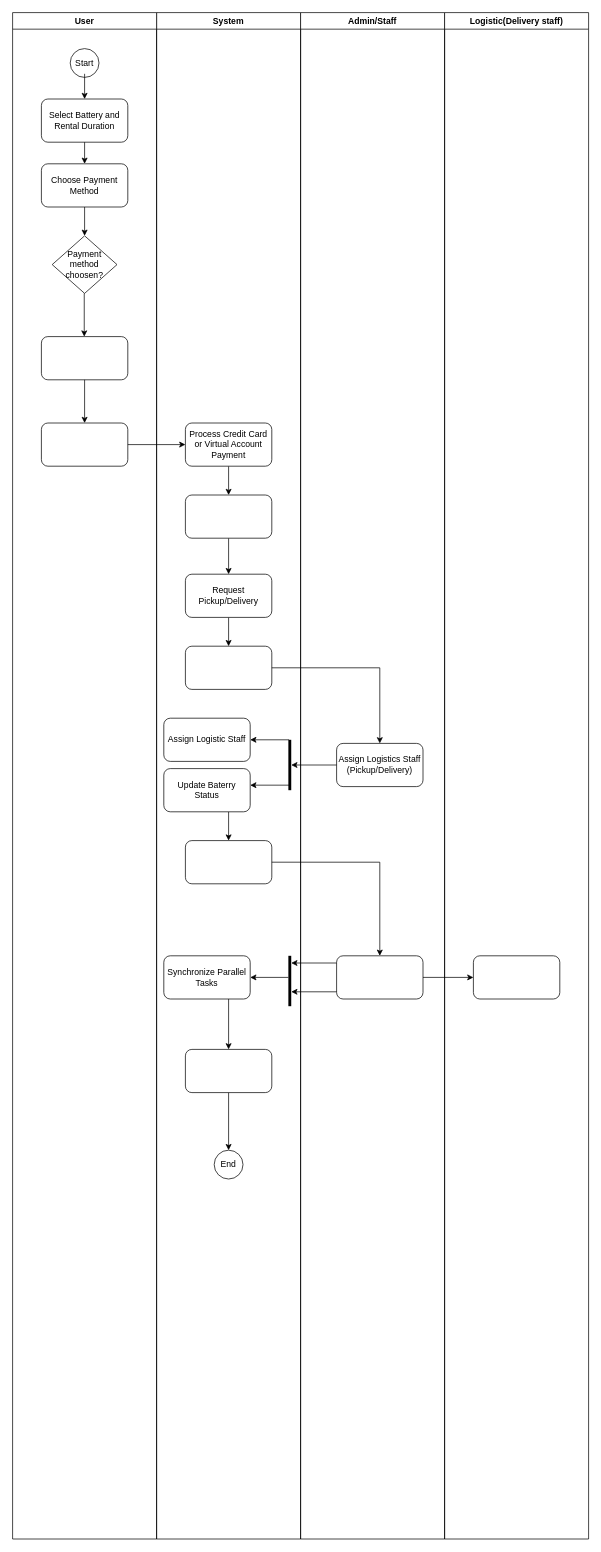
This 601x1552 diagram has some shape labels left out. Each missing label, with the centre of its shape:
"Complate Pick Up/Delivery" belongs at (x=516, y=977).
"Confirm Payment" belongs at (x=228, y=516).
"Confirm Payment (enter payment detail)" belongs at (x=84, y=444).
"Credit Card or Virtual Account" belongs at (x=84, y=358).
"Final Confirmation" belongs at (x=228, y=1071).
"Pick Up/Deliver Battery" belongs at (x=379, y=977).
"Track Status" belongs at (x=228, y=862).
"Update Battery Status (Rented)" belongs at (x=228, y=667).
